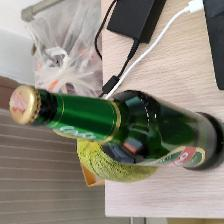gua: (89, 165, 144, 180)
